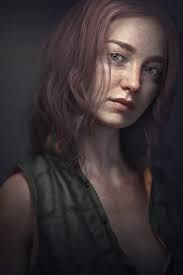no-mask: (78, 9, 166, 130)
